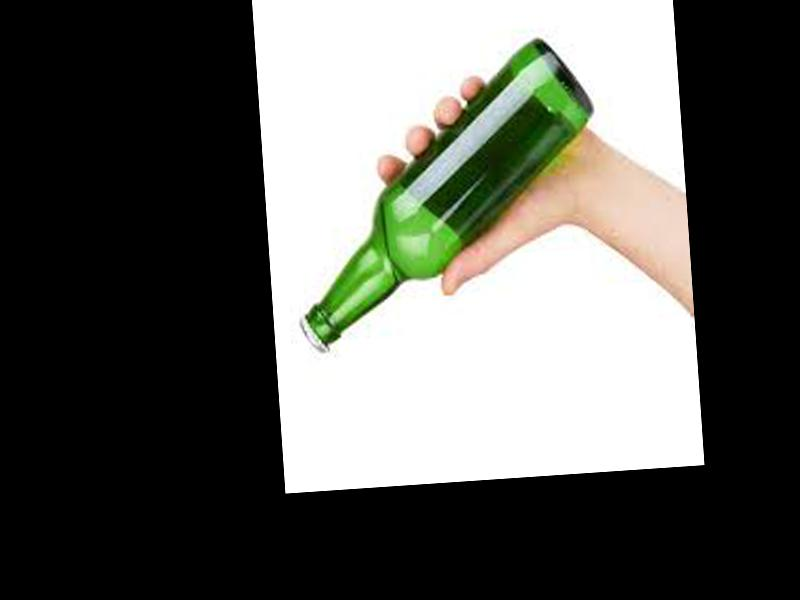Beer: (286, 37, 613, 354)
